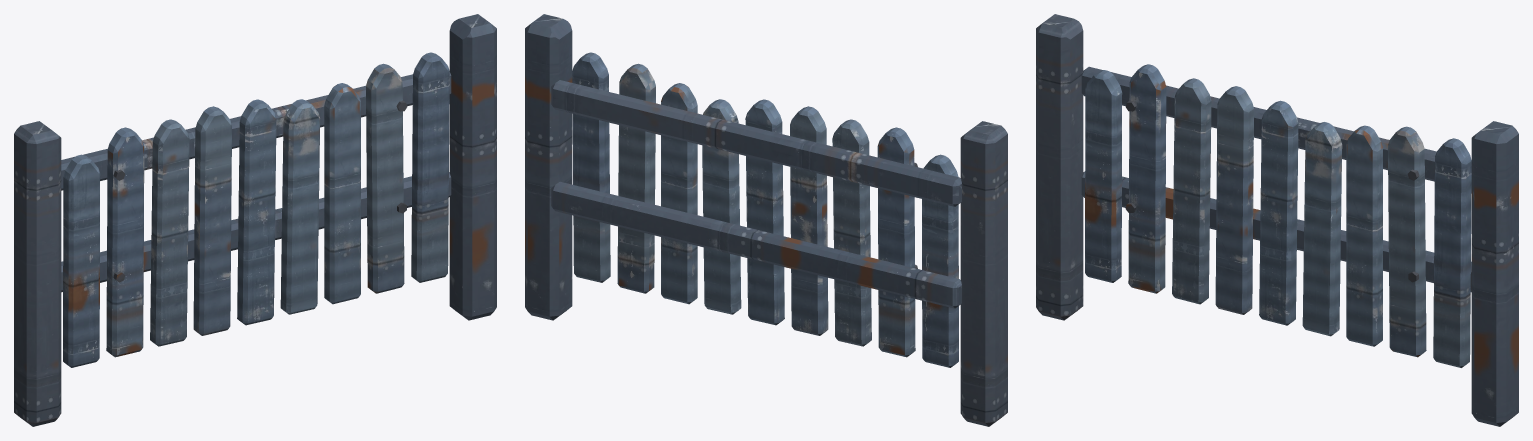
Rendered from cit.glb.
3 renders of one model, left to right at view 1: azimuth 30°, elevation 25°; view 2: azimuth 150°, elevation 25°; view 3: azimuth 330°, elevation 25°, orthographic.
Visible parts, largest first — view 1: cit; view 2: cit; view 3: cit.
Part boxes in pixels (left/top/right/bottom): cit: left=14, top=14, right=496, bottom=426; cit: left=525, top=14, right=1007, bottom=426; cit: left=1036, top=14, right=1518, bottom=426.
Size of the model in its own units: 3 by 1.78 by 0.26.
Materials: 1 (1 with a texture image).
